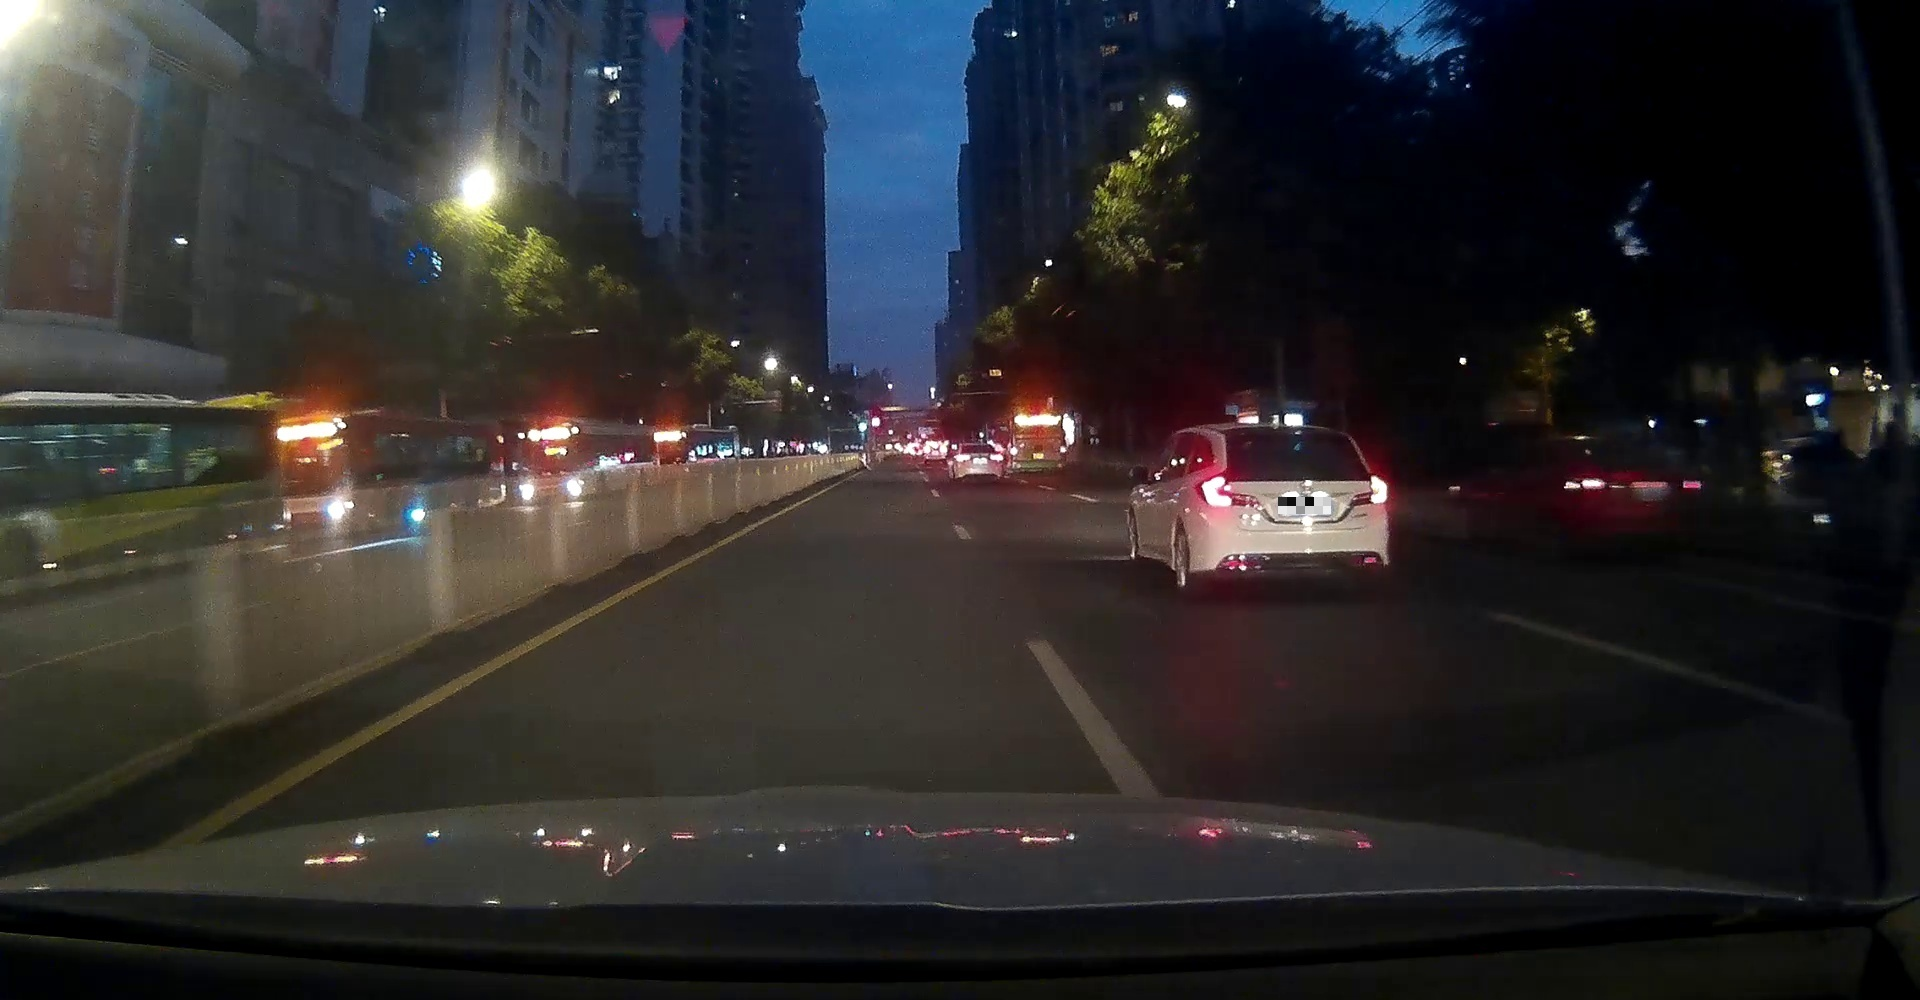L_light: (1195, 470, 1260, 508), (956, 454, 970, 462), (1010, 445, 1017, 459)
R_light: (1349, 475, 1388, 506), (1059, 444, 1065, 459), (990, 454, 1002, 461)
T_light: (1277, 430, 1299, 437), (974, 445, 982, 448), (1035, 409, 1043, 411)
night-no: (1190, 423, 1390, 596), (1010, 405, 1065, 477), (954, 443, 1003, 484)
plate_1: (1277, 497, 1331, 514)
